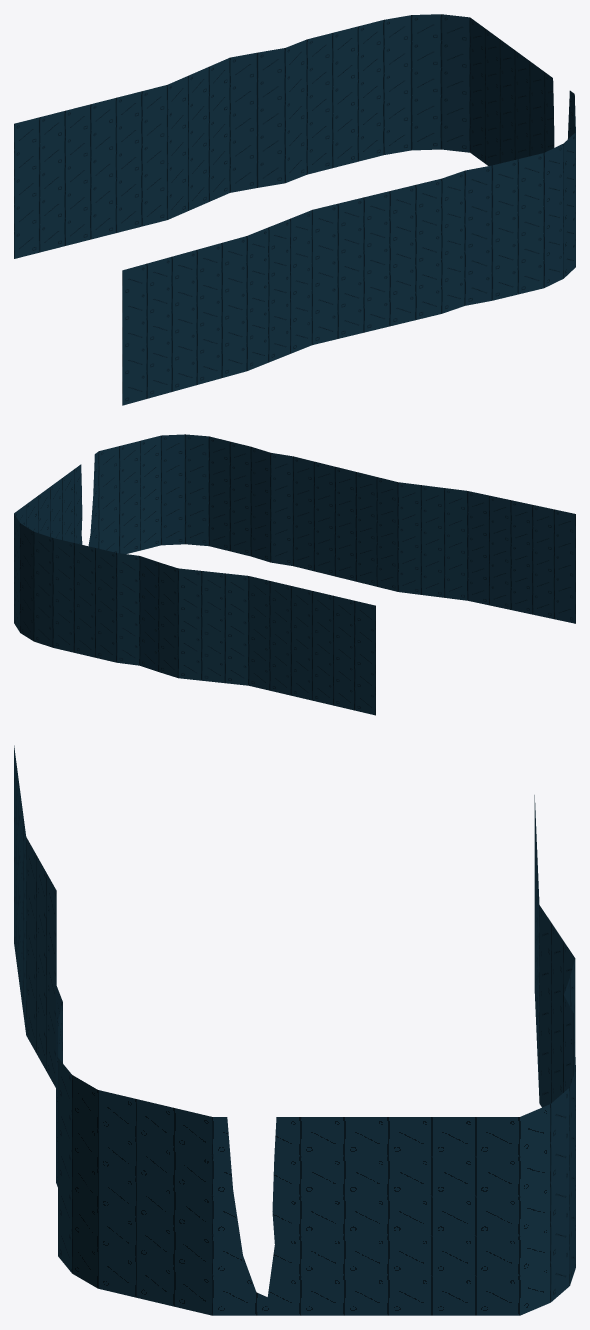
Rendered from house_entrance.glb.
The picture shows the model from 3 angles, top to bottom: view 1: azimuth 30°, elevation 25°; view 2: azimuth 150°, elevation 25°; view 3: azimuth 270°, elevation 25°; orthographic projection. The views are drawn at different scales.
Parts seen in each view (by area): view 1: forest_wall; view 2: forest_wall; view 3: forest_wall.
Part boxes in pixels (left/top/right/bottom): forest_wall: left=14, top=14, right=575, bottom=405; forest_wall: left=14, top=434, right=575, bottom=715; forest_wall: left=14, top=745, right=575, bottom=1315.
Bounding box in the file's own units: 40.22 × 10 × 25.62.
1 material, 1 textured.
